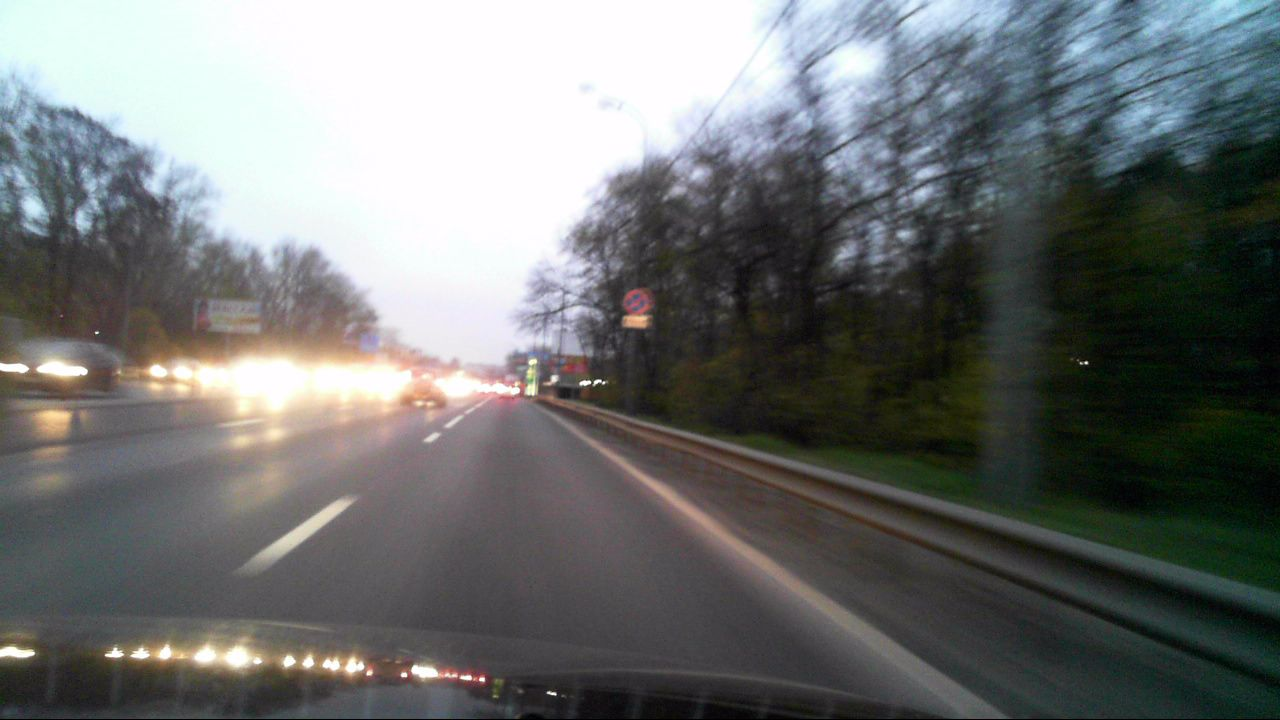No Parking: (623, 288, 649, 314)
